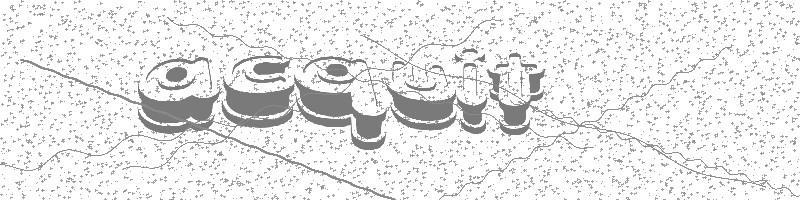a: (136, 56, 220, 134)
c: (221, 54, 297, 128)
i: (453, 46, 490, 135)
q: (294, 56, 387, 151)
t: (488, 53, 545, 134)
u: (386, 59, 460, 132)
